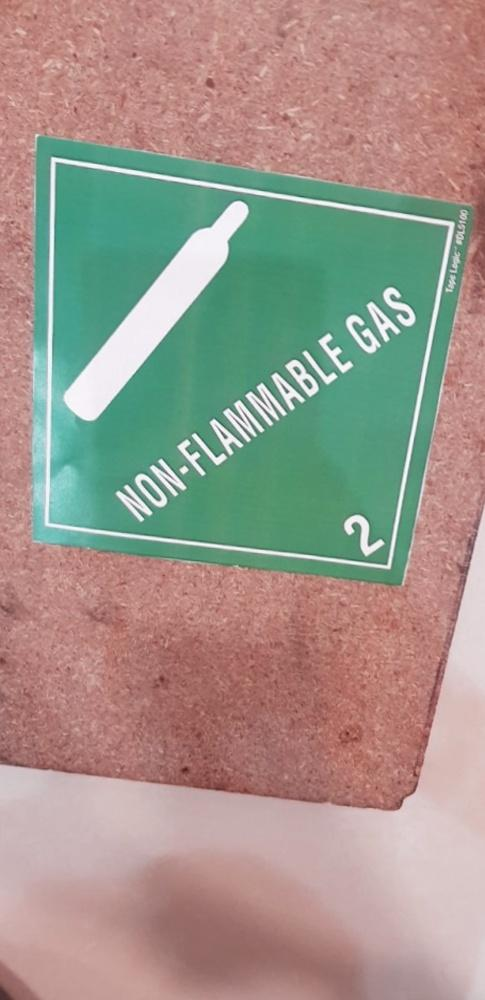non-flammable-gas: (26, 132, 476, 593)
